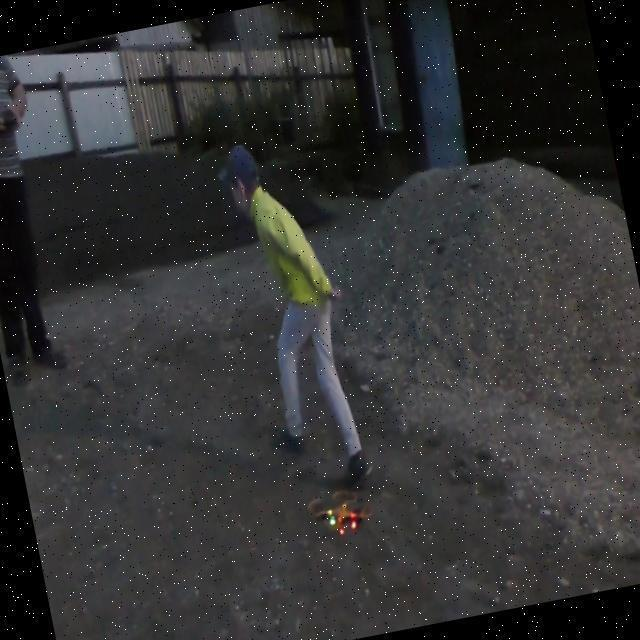Drons: (302, 476, 382, 544)
